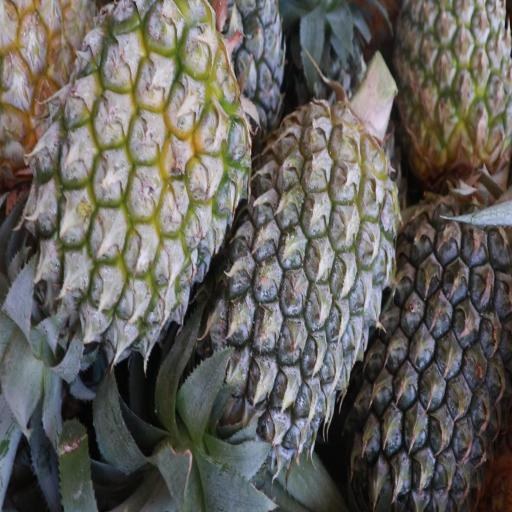------------------------------: (36, 0, 241, 332), (399, 0, 511, 183)
